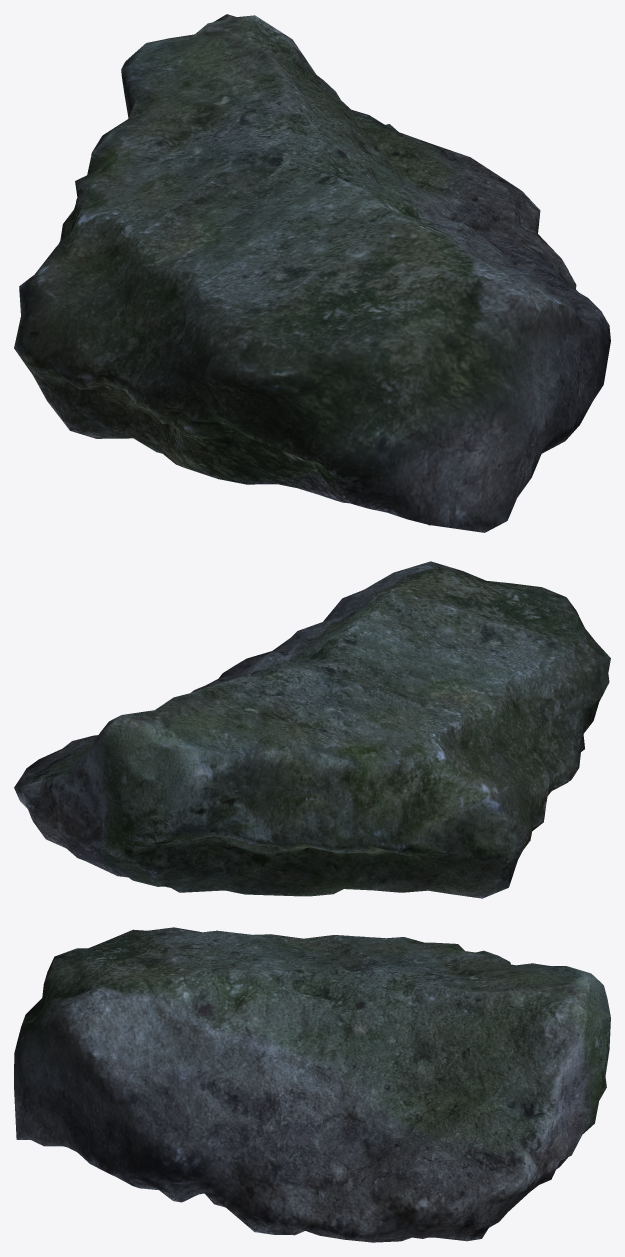
The model's file is rock.glb.
The picture shows the model from 3 angles, top to bottom: view 1: azimuth 30°, elevation 25°; view 2: azimuth 150°, elevation 25°; view 3: azimuth 270°, elevation 25°; orthographic projection. The views are drawn at different scales.
Parts seen in each view (by area): view 1: Group4704; view 2: Group4704; view 3: Group4704.
Boxes of the visible parts, x1,y1,x2,y2 form: Group4704: (14, 14, 610, 532); Group4704: (14, 561, 610, 898); Group4704: (14, 927, 610, 1242).
Bounding box in the file's own units: 2.19 × 0.9592 × 2.6.
1 material, 1 textured.
